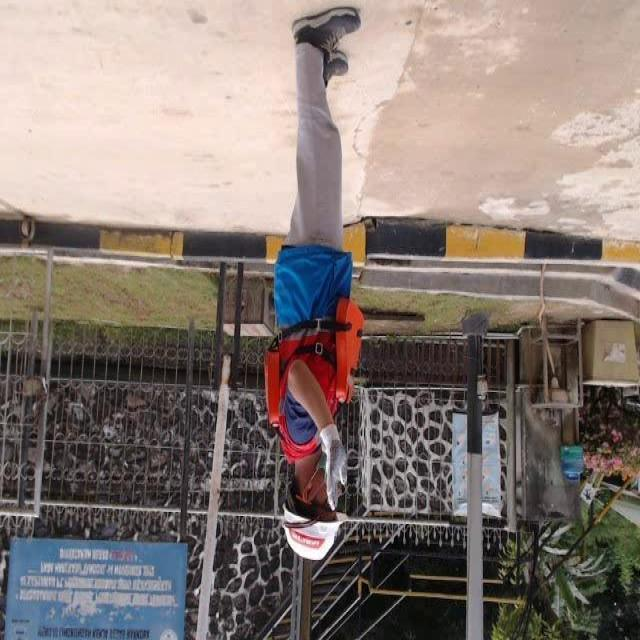helmet: (270, 505, 352, 568)
jacket: (256, 295, 372, 468)
